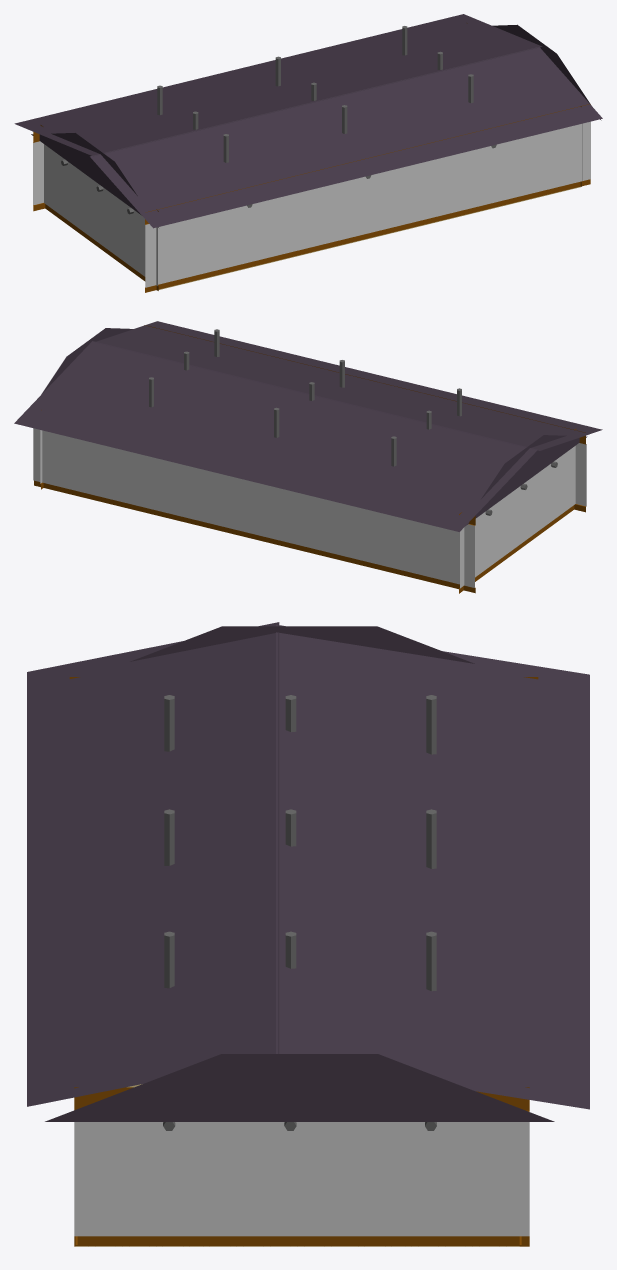
The model's file is um mercado decente que nao foi feito pelo mini pekka e nem pelo flakes (1).fbx.
3 views of the same model, one above another, from view 1: azimuth 30°, elevation 25°; view 2: azimuth 150°, elevation 25°; view 3: azimuth 270°, elevation 25° (orthographic). The views are drawn at different scales.
Parts seen in each view (by area): view 1: telhado, parede2, parede3, grades Z, parede1, chao; view 2: telhado, parede1, parede3, grades Z, parede2; view 3: telhado, parede4, grades Z.
Boxes of the visible parts, x1=… form: telhado: x1=14, y1=14, x2=602, y2=228; parede2: x1=145, y1=104, x2=590, y2=292; parede3: x1=40, y1=125, x2=158, y2=290; grades Z: x1=157, y1=26, x2=473, y2=162; parede1: x1=33, y1=132, x2=45, y2=211; chao: x1=159, y1=186, x2=580, y2=289; telhado: x1=14, y1=321, x2=602, y2=531; parede1: x1=33, y1=428, x2=475, y2=593; parede3: x1=459, y1=428, x2=576, y2=593; grades Z: x1=149, y1=329, x2=461, y2=466; parede2: x1=144, y1=325, x2=586, y2=512; telhado: x1=27, y1=622, x2=589, y2=1121; parede4: x1=74, y1=1087, x2=529, y2=1246; grades Z: x1=164, y1=695, x2=436, y2=991.
Bounding box in the file's own units: 9232 × 2247 × 5016.
